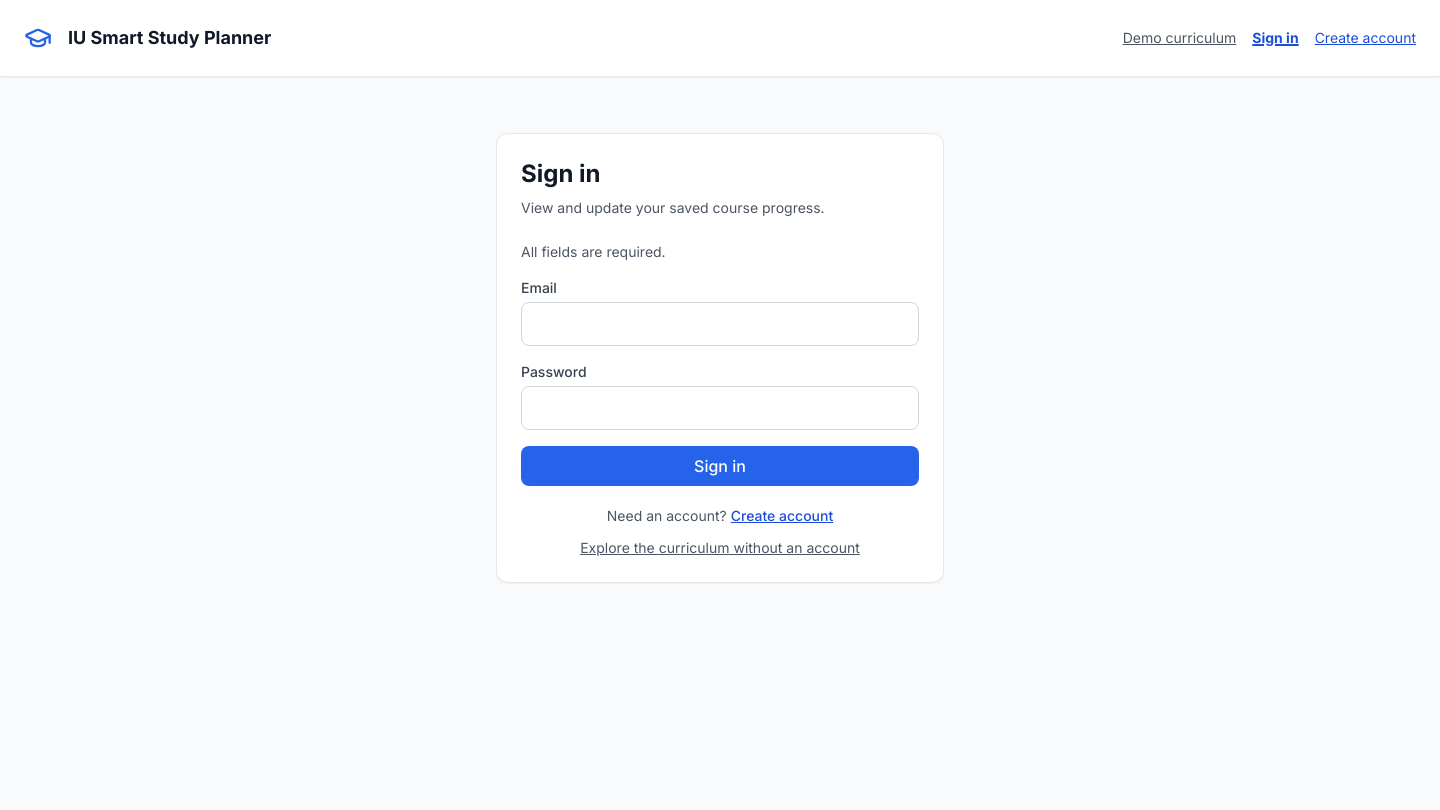
authentication screens and session routing › keeps a failed sign-in inside the form by focusing the error message
In the field labelled "Email": (720, 324) [521, 302, 919, 346], type "alice@example.test"
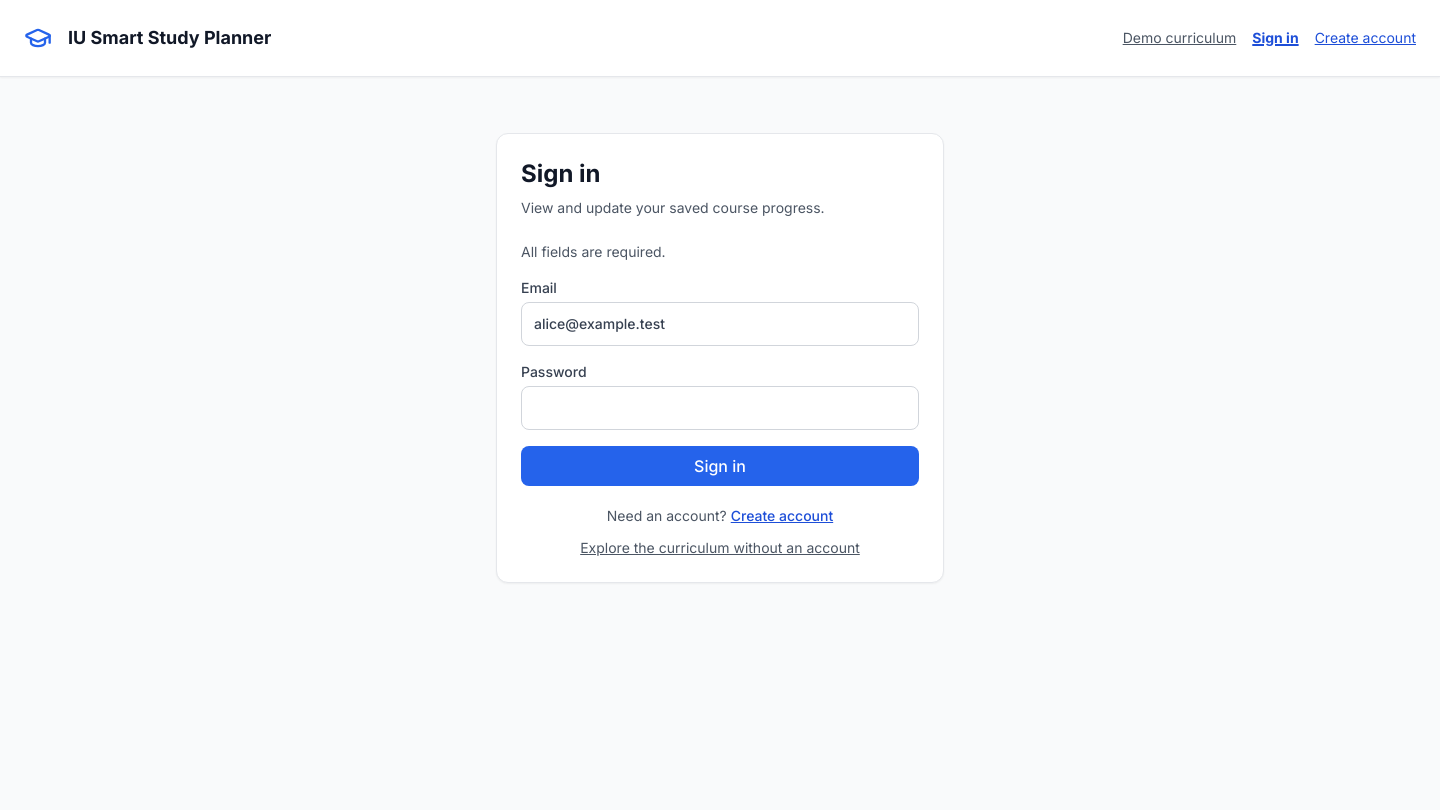
In the password field labelled "Password": (720, 408) [521, 386, 919, 430], type "password123"
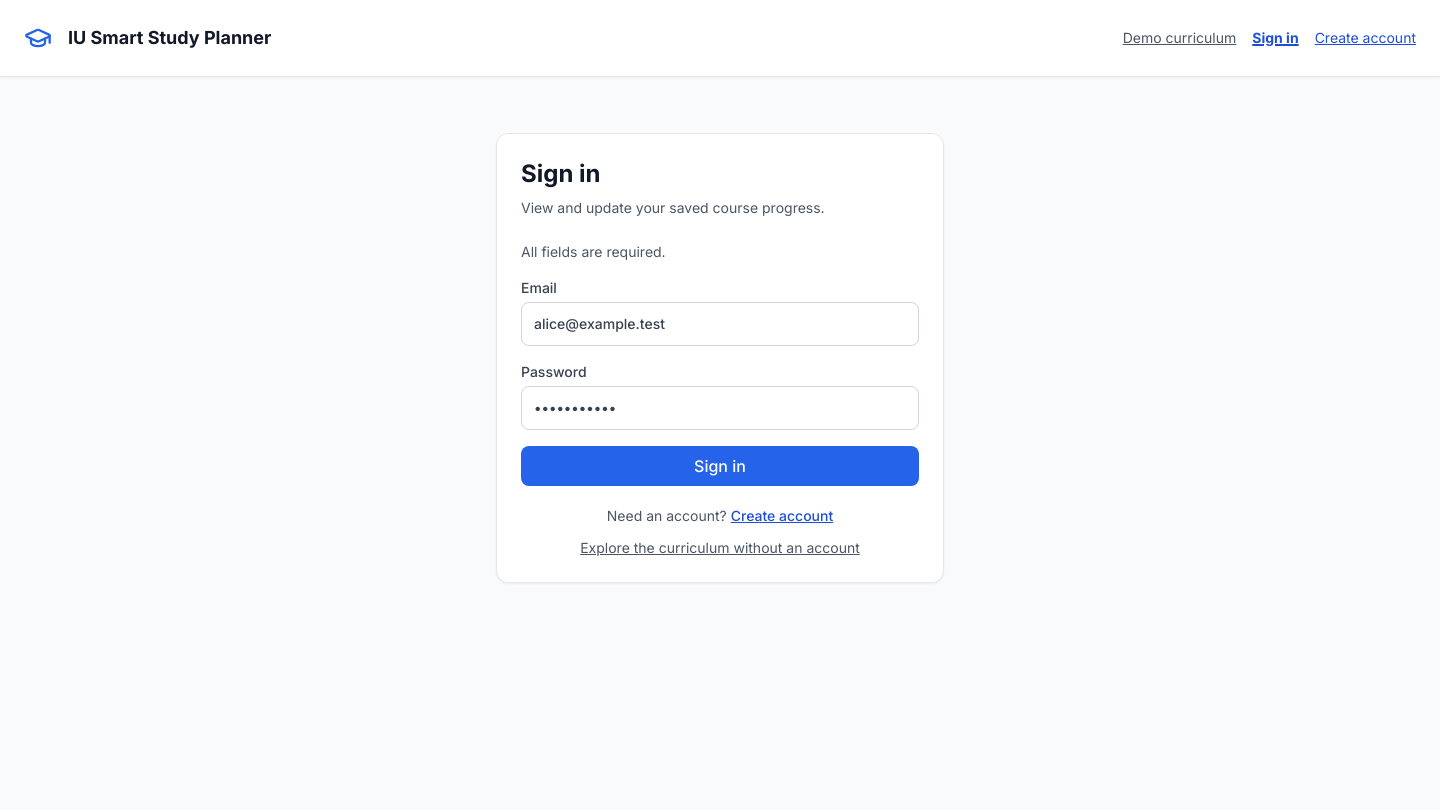
Submit the form "Sign in", box [521, 242, 919, 486]
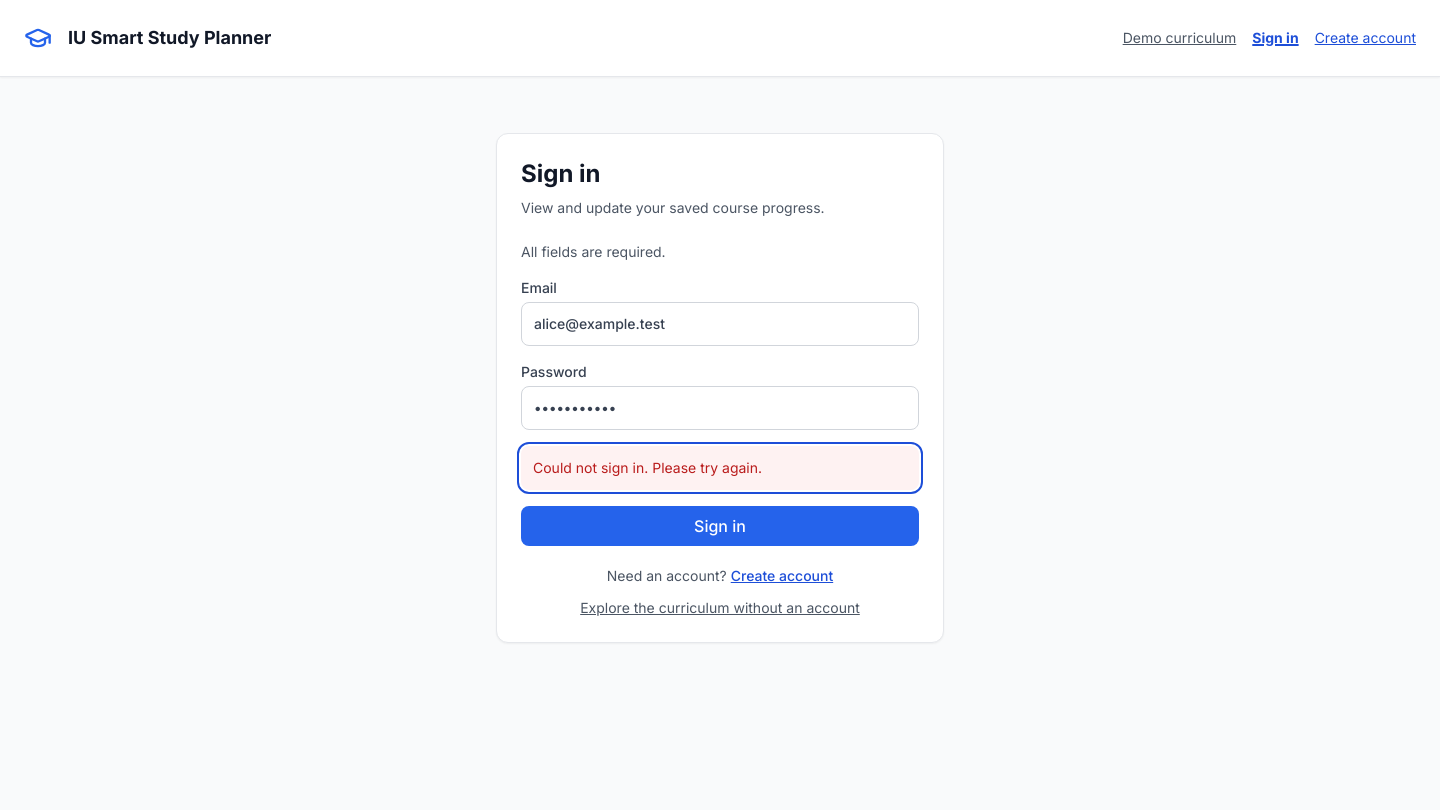
Result: the message shows "Could not sign in" at [533, 459, 762, 476]
